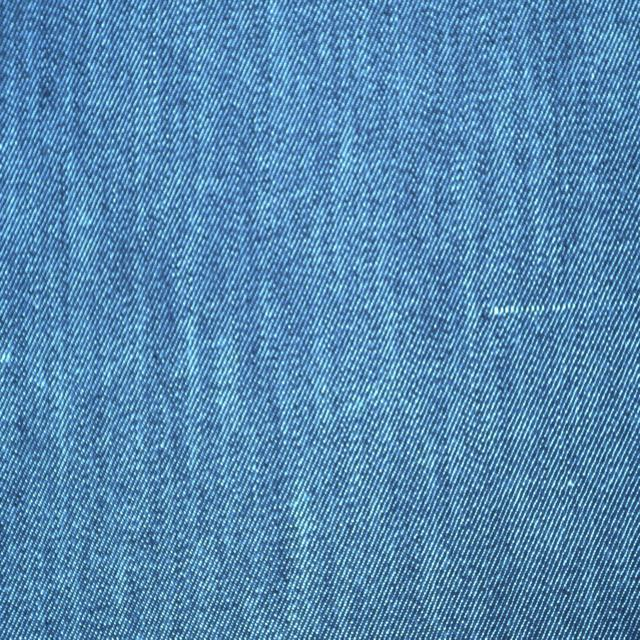pulled_or_thick_thread: (476, 286, 640, 329)
